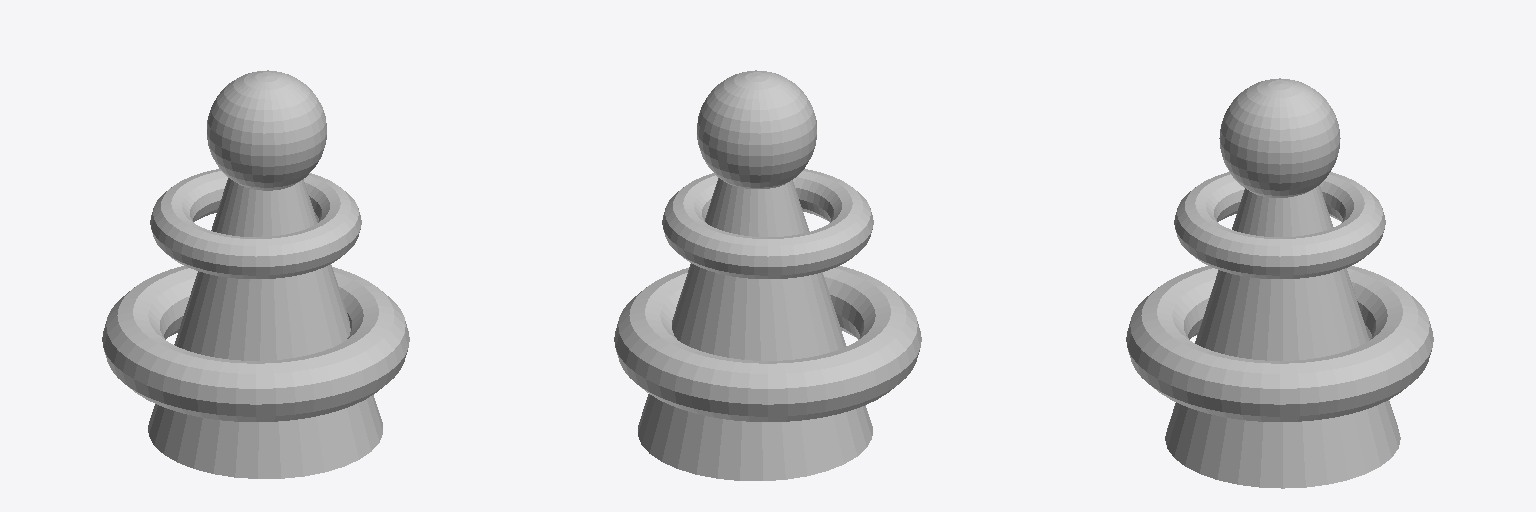
File: wireless_electric.obj
3 renders of one model, left to right at view 1: azimuth 30°, elevation 25°; view 2: azimuth 150°, elevation 25°; view 3: azimuth 270°, elevation 25°, orthographic.
Visible parts, largest first — view 1: Cylinder, Torus.001, Torus, Sphere; view 2: Cylinder, Torus.001, Torus, Sphere; view 3: Cylinder, Torus.001, Torus, Sphere.
Boxes of the visible parts, x1,y1,x2,y2 form: Cylinder: [148, 178, 382, 478]; Torus.001: [102, 266, 409, 421]; Torus: [150, 169, 361, 278]; Sphere: [207, 70, 326, 190]; Cylinder: [638, 178, 872, 480]; Torus.001: [614, 266, 921, 421]; Torus: [662, 169, 873, 278]; Sphere: [697, 70, 816, 188]; Cylinder: [1165, 185, 1400, 488]; Torus.001: [1126, 266, 1433, 421]; Torus: [1174, 172, 1385, 278]; Sphere: [1219, 78, 1340, 197].
Bounding box in the file's own units: 10.64 × 13.52 × 10.64.